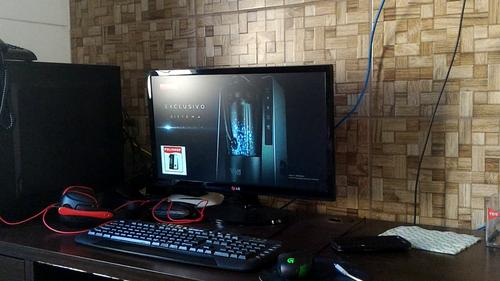Polishop #1: (159, 144, 187, 175)
